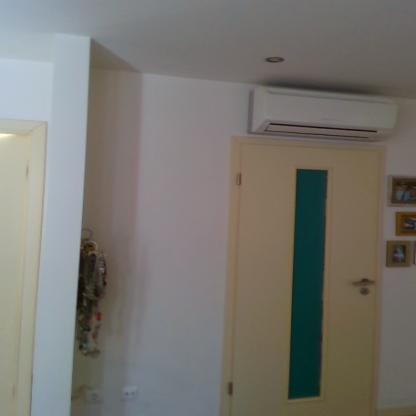door: (230, 130, 384, 415)
hinged: (228, 382, 235, 395), (237, 172, 242, 186)
lever: (348, 280, 376, 288)
